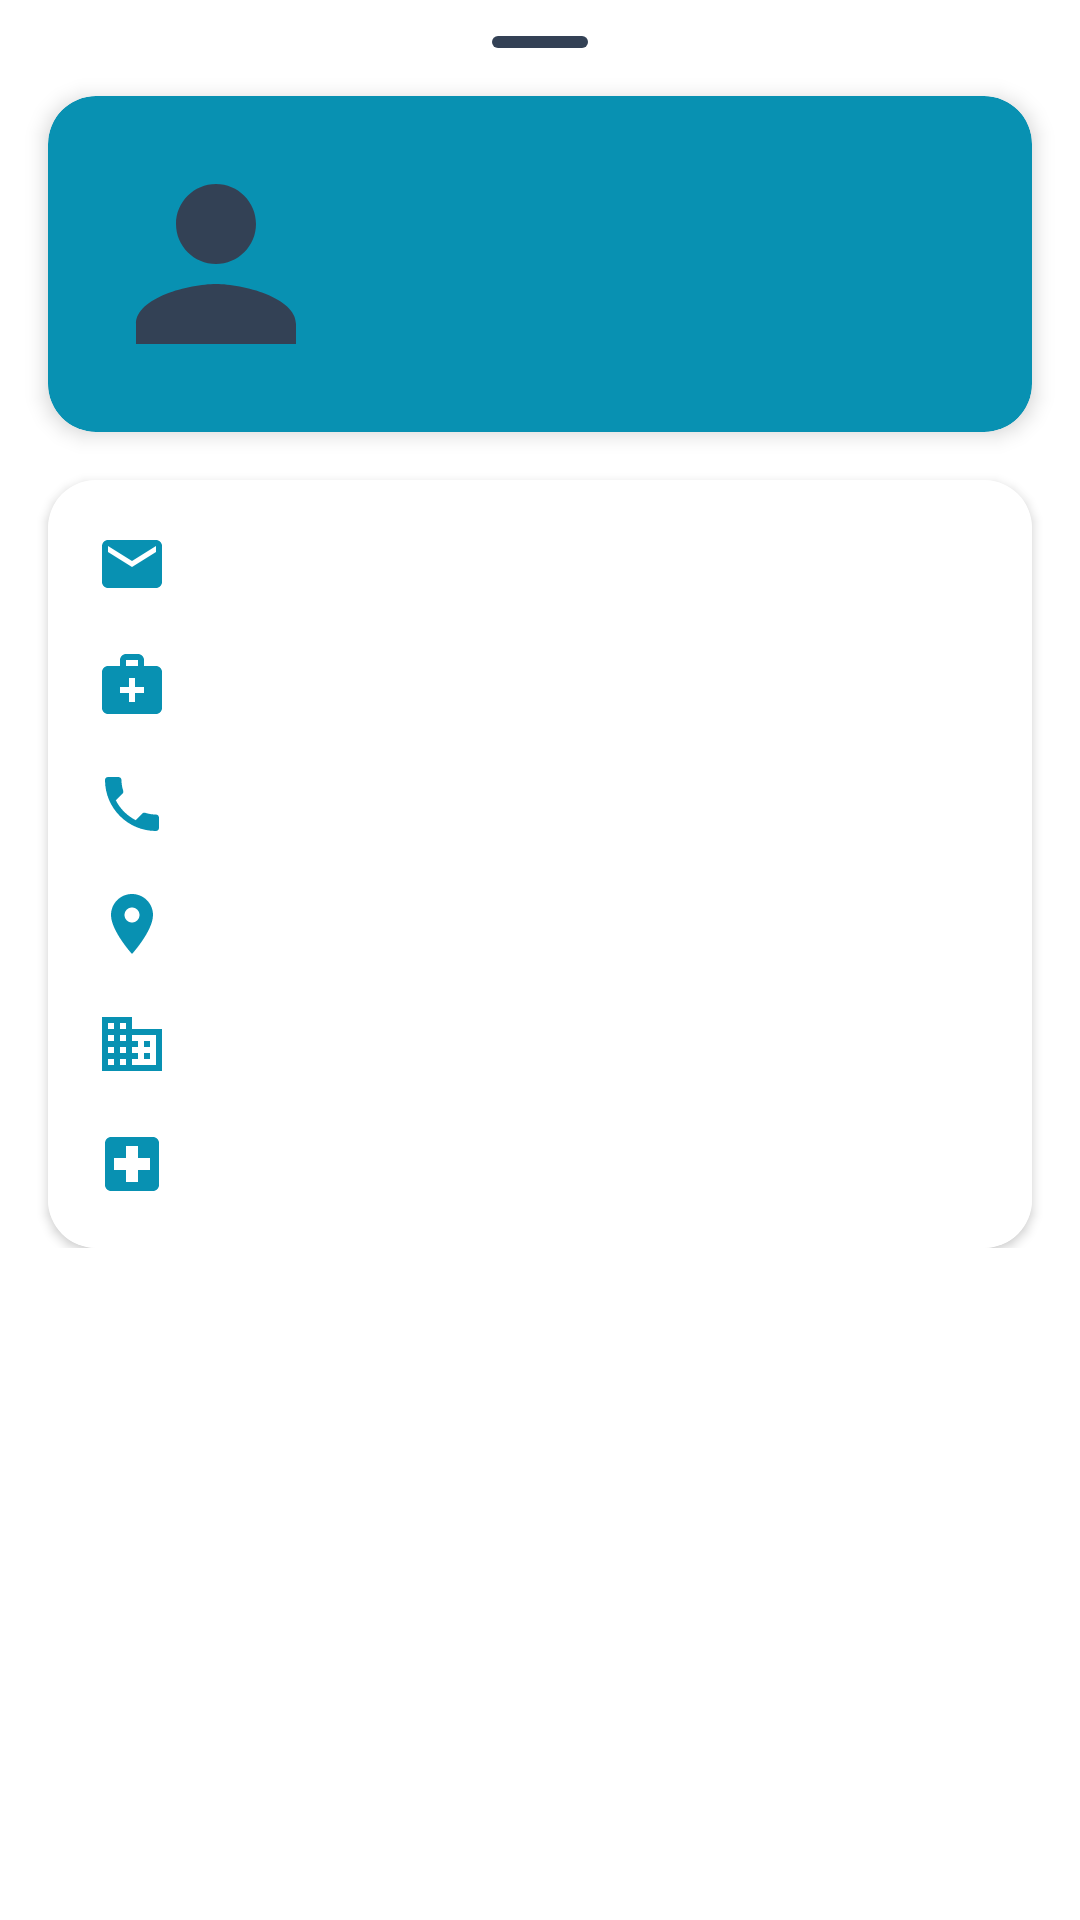

Icons on this 1080px x 1920px Android screen, each with its box as (x1, y1, x2, y2):
business: (102, 1017, 162, 1071)
email: (102, 540, 162, 588)
local hospital: (105, 1137, 159, 1191)
location: (111, 894, 153, 954)
person: (136, 184, 296, 344)
phone: (105, 777, 159, 831)
specialization: (102, 654, 162, 714)
